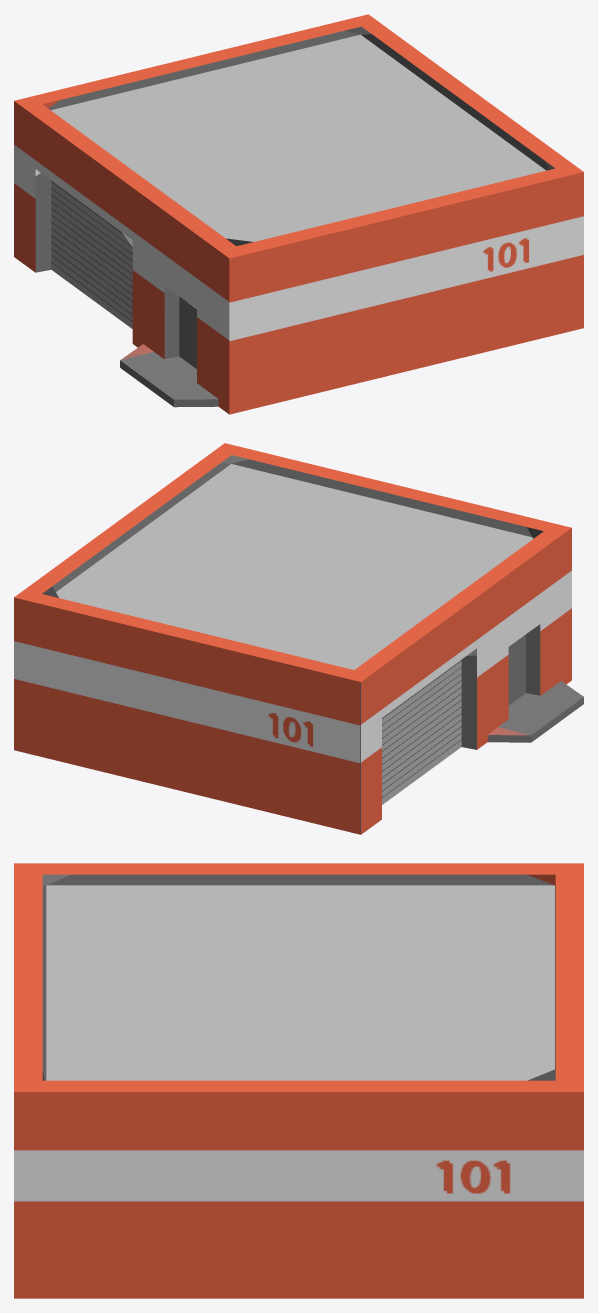
File: Документ 1.fbx
3 renders of one model, top to bottom at view 1: azimuth 30°, elevation 25°; view 2: azimuth 150°, elevation 25°; view 3: azimuth 270°, elevation 25°, orthographic. The views are drawn at different scales.
Parts seen in each view (by area): view 1: Объект_Куб; view 2: Объект_Куб; view 3: Объект_Куб.
Part boxes in pixels (x1,y1,x2,y2): Объект_Куб: [14, 14, 583, 414]; Объект_Куб: [14, 443, 583, 834]; Объект_Куб: [14, 863, 583, 1298].
Size of the model in its own units: 520 by 200 by 500.
1 material, 1 textured.
